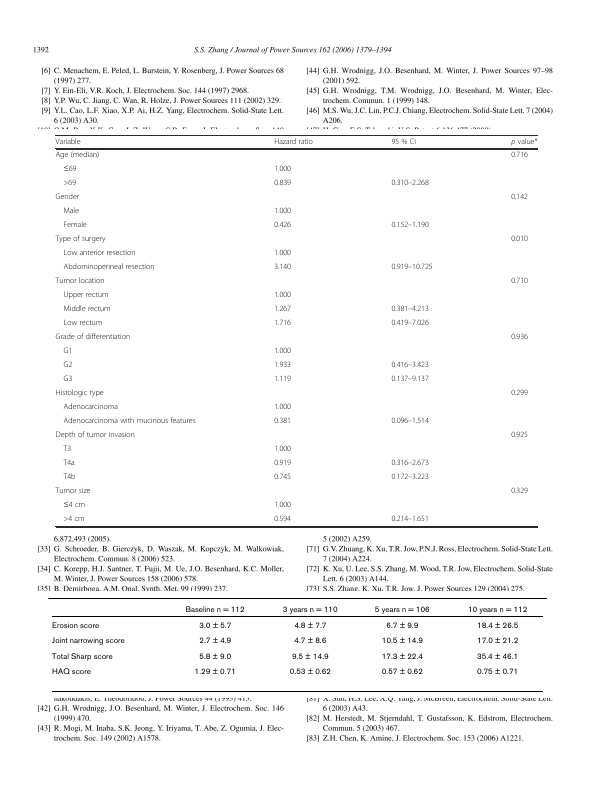borderless: (54, 134, 537, 526), (47, 596, 543, 691)
cell: (62, 417, 196, 427), (62, 263, 155, 273), (54, 431, 136, 441), (54, 333, 131, 343), (50, 637, 125, 647), (62, 249, 136, 259), (50, 652, 113, 662), (466, 605, 528, 615), (184, 605, 245, 615), (281, 605, 338, 615), (373, 605, 430, 615), (62, 403, 119, 413), (55, 235, 106, 245), (54, 389, 105, 399), (55, 277, 105, 287), (62, 305, 112, 315), (50, 621, 99, 631), (62, 291, 109, 301), (55, 151, 100, 161), (475, 621, 519, 631), (475, 637, 519, 647), (475, 652, 519, 662), (475, 668, 519, 678), (380, 637, 423, 647), (380, 652, 423, 662), (193, 668, 236, 678), (288, 668, 331, 678), (380, 668, 423, 678), (390, 263, 433, 273), (50, 668, 91, 678), (62, 319, 103, 329), (390, 179, 430, 189), (390, 221, 430, 231), (390, 305, 430, 315), (390, 319, 430, 329), (390, 361, 430, 371), (390, 375, 430, 385), (390, 417, 430, 427), (390, 459, 430, 469), (390, 473, 430, 483), (390, 515, 430, 525), (290, 652, 329, 662), (54, 487, 91, 497), (273, 138, 314, 147), (198, 621, 232, 631), (293, 621, 327, 631), (385, 621, 419, 631), (198, 637, 232, 647), (293, 637, 327, 647), (198, 652, 232, 662), (62, 221, 88, 231), (510, 138, 538, 147), (55, 193, 80, 203), (390, 138, 417, 147), (62, 501, 86, 511), (55, 138, 81, 147), (62, 515, 85, 525), (510, 151, 529, 161), (273, 165, 292, 175), (273, 179, 292, 189), (510, 193, 529, 203), (273, 207, 292, 217), (273, 221, 292, 231), (510, 235, 529, 245), (273, 249, 292, 259), (273, 263, 292, 273), (510, 277, 529, 287), (273, 291, 292, 301), (273, 305, 292, 315), (273, 319, 292, 329), (510, 333, 529, 343), (273, 347, 292, 357), (273, 361, 292, 371), (273, 375, 292, 385), (510, 389, 529, 399), (273, 403, 292, 413), (273, 417, 292, 427), (510, 431, 529, 441), (273, 445, 292, 455), (273, 459, 292, 469), (273, 473, 292, 483), (510, 487, 529, 497), (273, 501, 292, 511), (273, 515, 292, 525), (62, 207, 80, 217), (62, 165, 77, 175), (62, 179, 77, 189), (62, 459, 76, 469), (62, 473, 76, 483), (62, 347, 73, 357), (62, 361, 73, 371), (62, 375, 73, 385), (62, 445, 72, 455)
